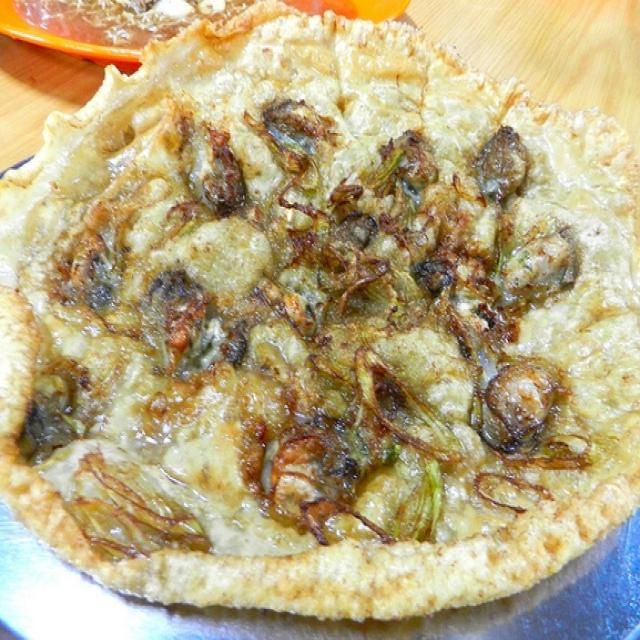熟制海鲜: (14, 14, 624, 608)
